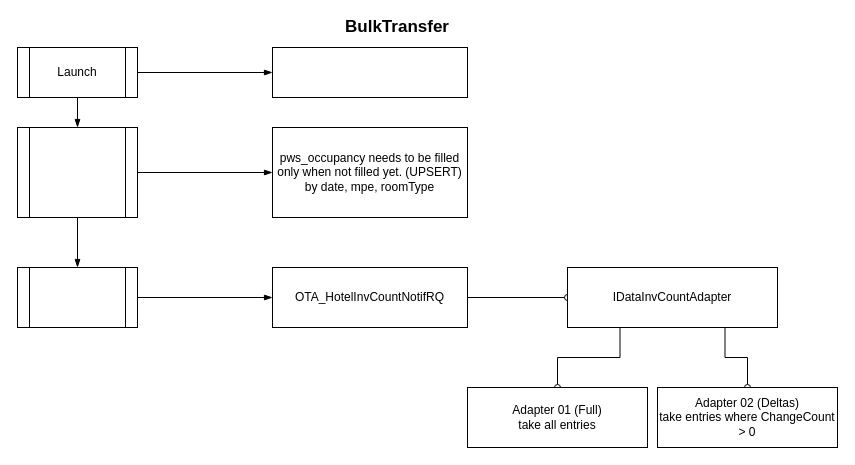
This 855x465 diagram has some shape labels left out. Here are the shapes that lost their labels. From the top down, the centre of each, then its label:
At pixel 370 72: "Set Trigger".
At pixel 77 172: "Preperation".
At pixel 77 297: "Building Messages".
